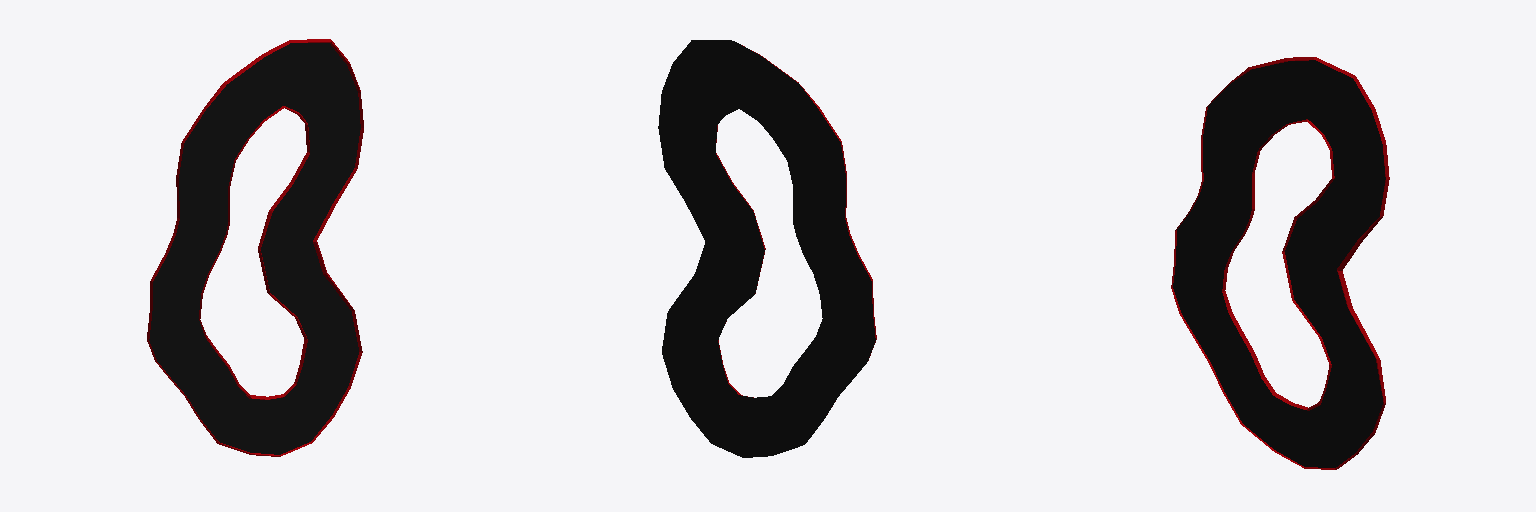
Rendered from track.obj.
3 renders of one model, left to right at view 1: azimuth 30°, elevation 25°; view 2: azimuth 150°, elevation 25°; view 3: azimuth 330°, elevation 25°, orthographic.
Visible parts, largest first — view 1: Plane; view 2: Plane; view 3: Plane.
Part boxes in pixels (bbox=[...]): Plane: bbox=[147, 39, 363, 456]; Plane: bbox=[658, 40, 876, 457]; Plane: bbox=[1171, 57, 1389, 469].
Bounding box in the file's own units: 52.67 × 96.17 × 0.9425.